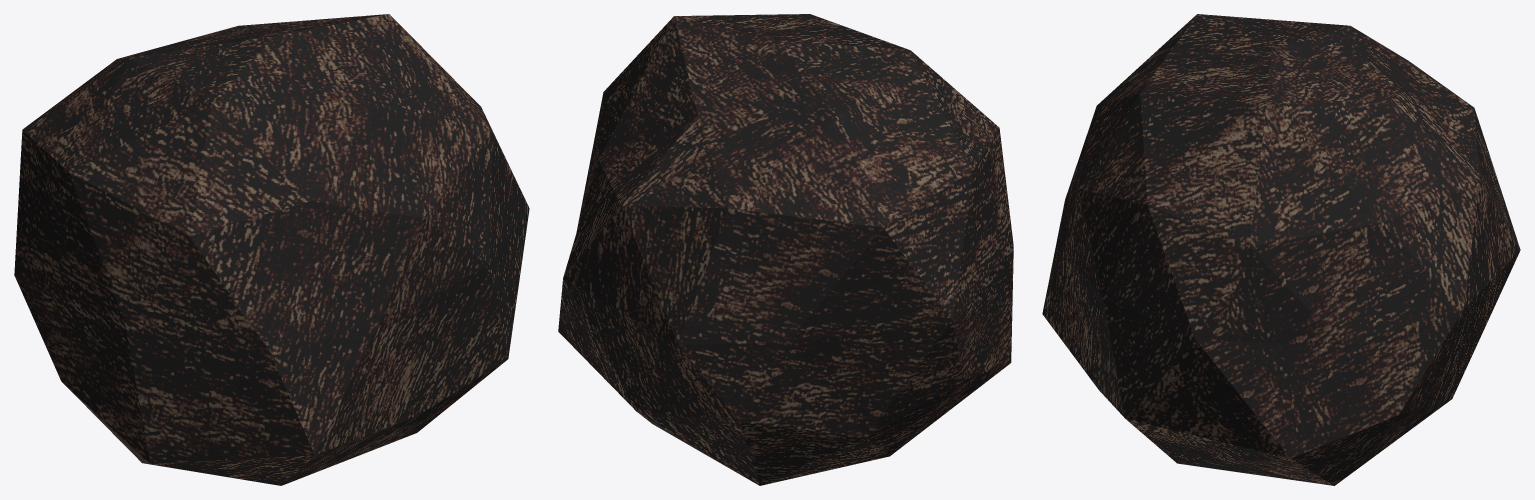
File: Pedra.glb
3 renders of one model, left to right at view 1: azimuth 30°, elevation 25°; view 2: azimuth 150°, elevation 25°; view 3: azimuth 270°, elevation 25°, orthographic. The views are drawn at different scales.
Parts seen in each view (by area): view 1: Boulder-convcol; view 2: Boulder-convcol; view 3: Boulder-convcol.
Part boxes in pixels (x1=…): Boulder-convcol: x1=14, y1=14, x2=529, y2=485; Boulder-convcol: x1=558, y1=14, x2=1013, y2=485; Boulder-convcol: x1=1042, y1=14, x2=1520, y2=485.
Bounding box in the file's own units: 5.07 × 4.64 × 4.97.
1 material, 1 textured.
